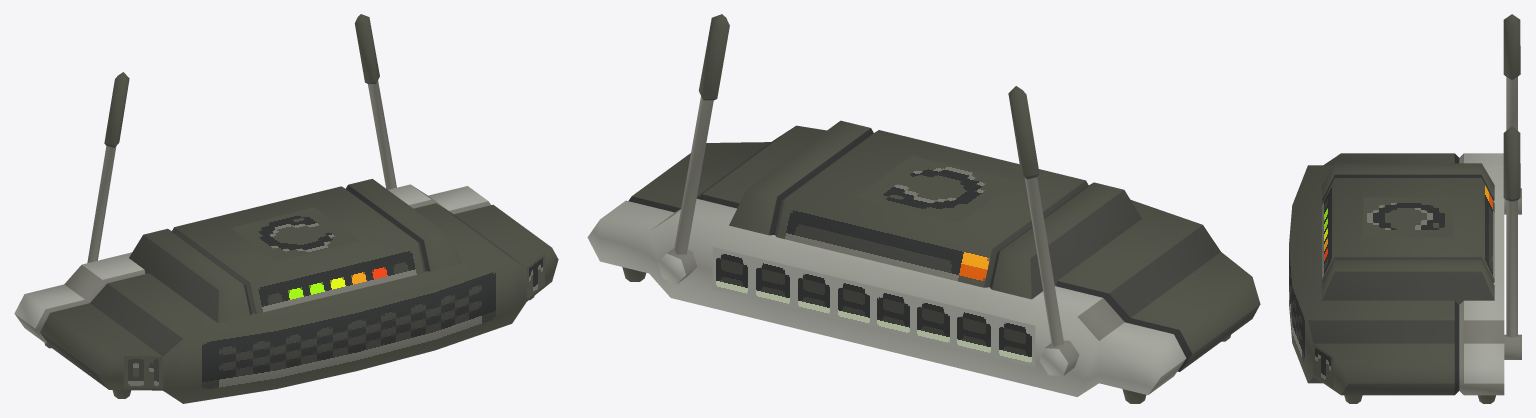
Rendered from router.glb.
3 renders of one model, left to right at view 1: azimuth 30°, elevation 25°; view 2: azimuth 150°, elevation 25°; view 3: azimuth 270°, elevation 25°, orthographic. The views are drawn at different scales.
Visible parts, largest first — view 1: Plane.057, Plane.061, Plane.058, Plane.060; view 2: Plane.057, Plane.061, Plane.059, Plane.058; view 3: Plane.057, Plane.061, Plane.058, Plane.060.
Boxes of the visible parts, bbox=[...] form: Plane.057: bbox=[14, 184, 558, 403]; Plane.061: bbox=[129, 179, 462, 323]; Plane.058: bbox=[87, 14, 396, 262]; Plane.060: bbox=[124, 253, 544, 388]; Plane.057: bbox=[587, 125, 1260, 396]; Plane.061: bbox=[729, 120, 1141, 299]; Plane.059: bbox=[712, 247, 1035, 367]; Plane.058: bbox=[657, 14, 1079, 375]; Plane.057: bbox=[1289, 153, 1504, 395]; Plane.061: bbox=[1322, 163, 1494, 303]; Plane.058: bbox=[1503, 14, 1521, 359]; Plane.060: bbox=[1313, 344, 1333, 387].
Size of the model in its own units: 0.5815 by 0.2921 by 0.2614.
1 material, 1 textured.
